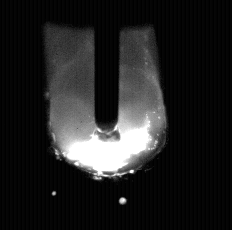arame: (95, 0, 120, 144)
poca: (58, 0, 153, 230)
